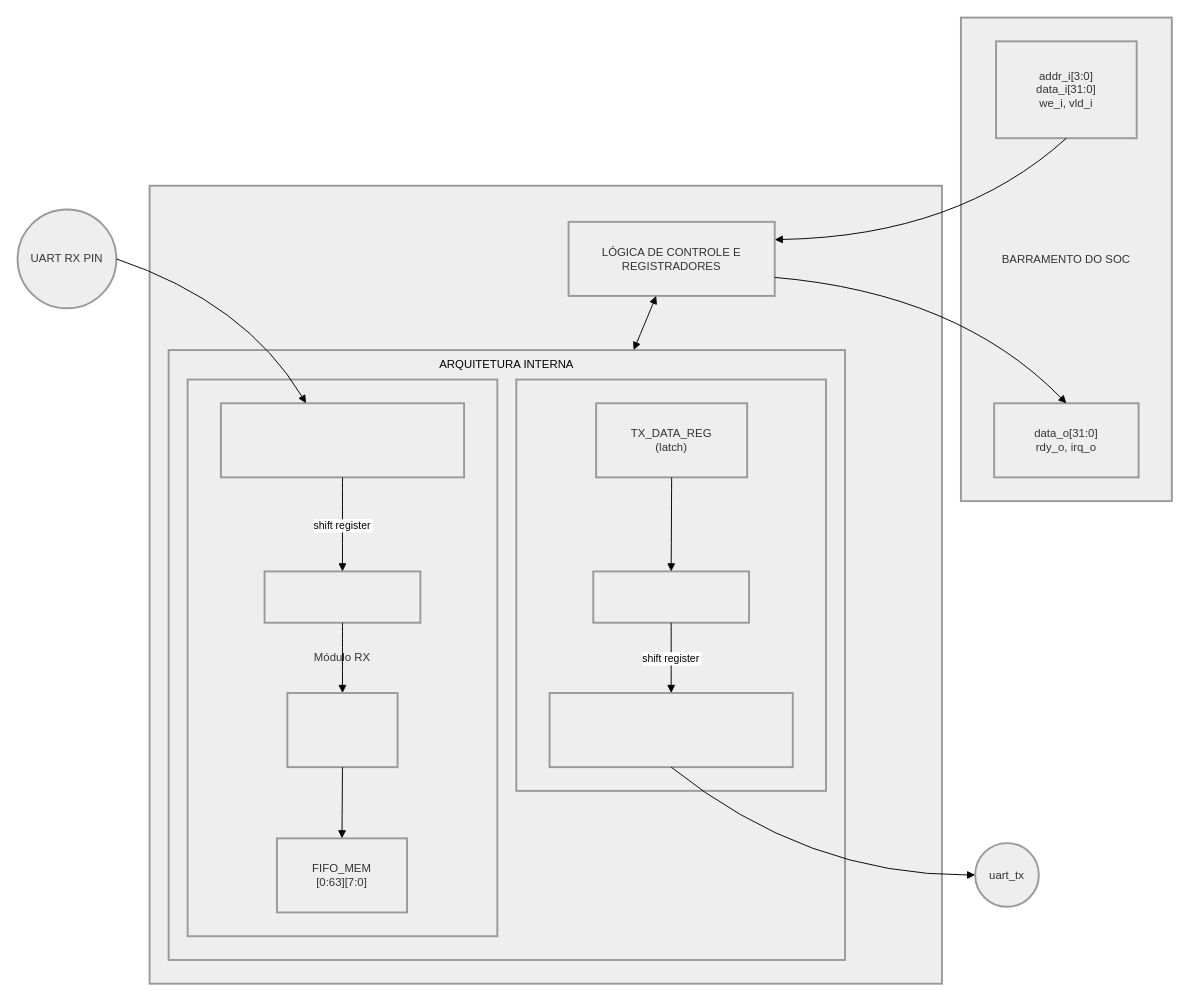
Some shapes in this 1188 by 1000 pixel diagram are drawn without their labels. Each missing label, with the centre of its shape:
"FIFO (buffer)" belongs at pixel 342 730.
"RX FSM RX_IDLE/START/DATA/STOP" belongs at pixel 342 440.
"rx_shifter[7:0]" belongs at pixel 342 596.
"TX FSM TX_IDLE/START/DATA/STOP" belongs at pixel 670 730.
"tx_shifter[7:0]" belongs at pixel 671 596.
